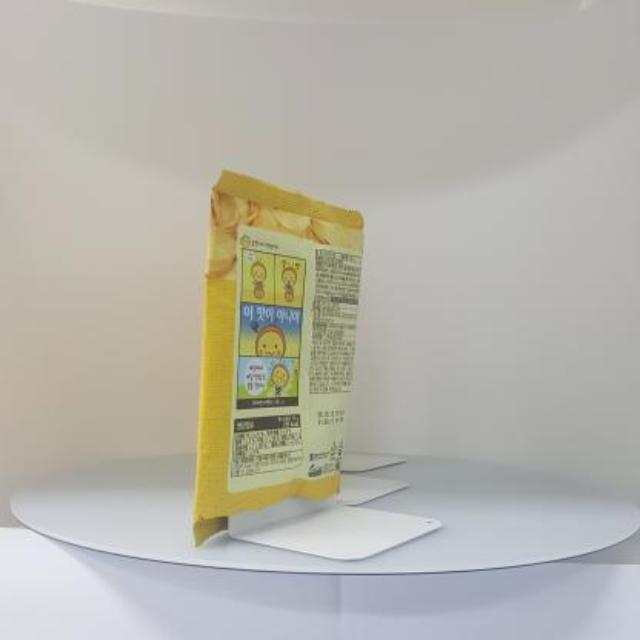snack_bag: (184, 158, 384, 556)
